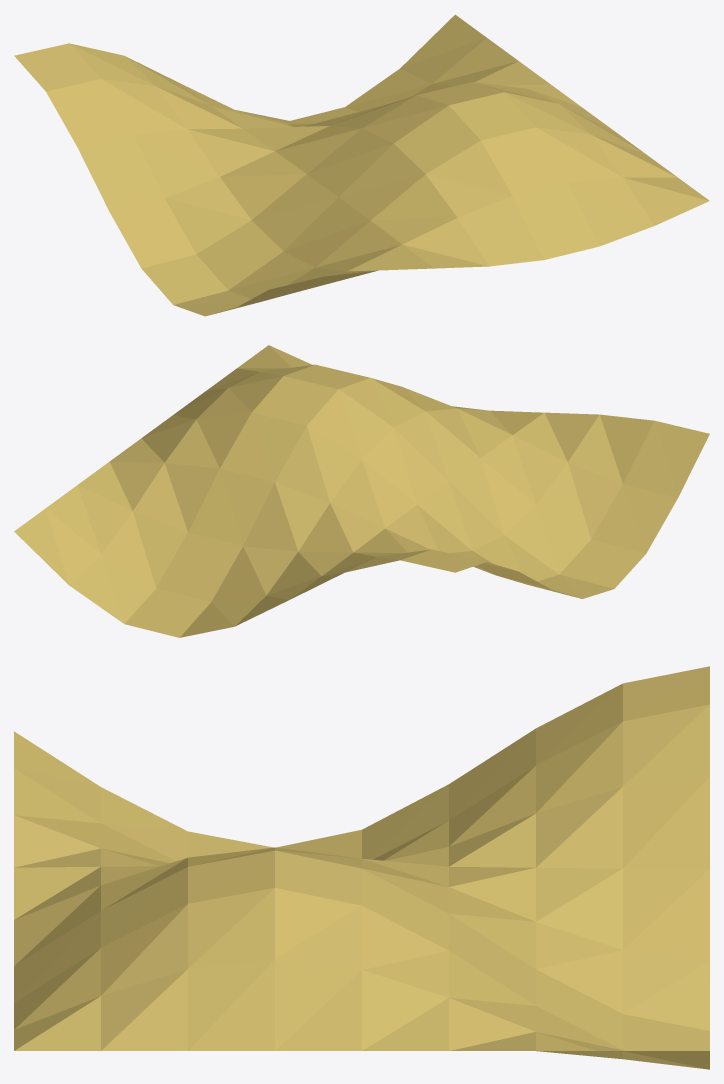
3 renders of one model, top to bottom at view 1: azimuth 30°, elevation 25°; view 2: azimuth 150°, elevation 25°; view 3: azimuth 270°, elevation 25°, orthographic. The views are drawn at different scales.
Bounding box in the file's own units: 20 × 5.75 × 20.
